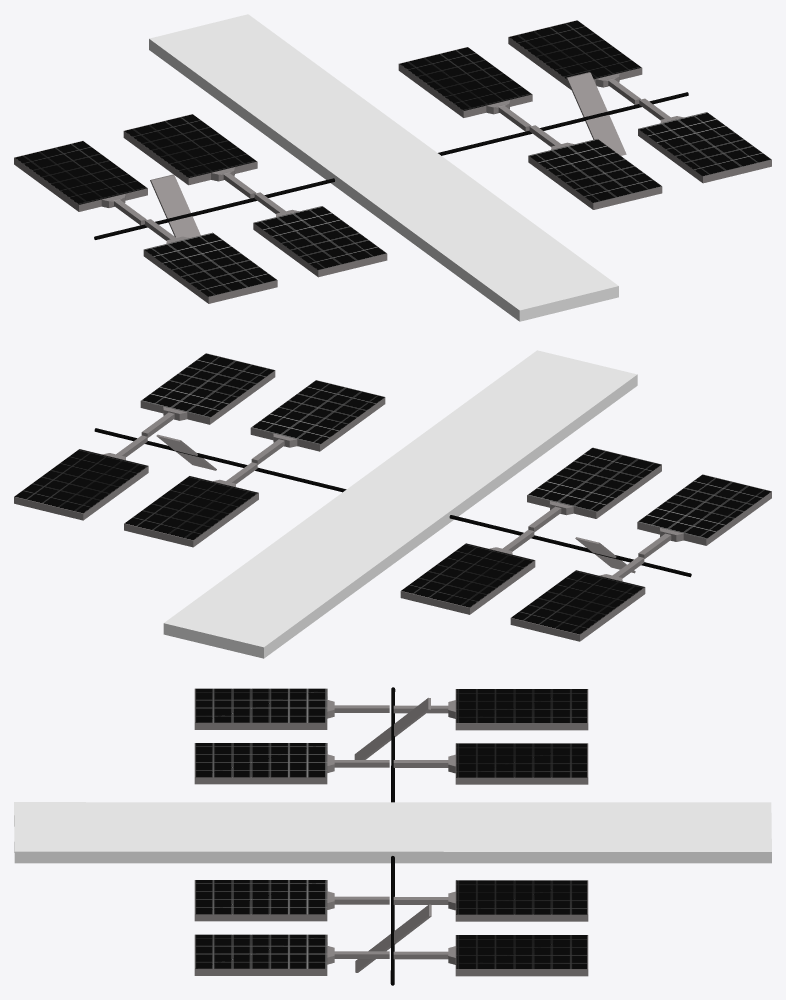
The model's file is ISS-2.fbx.
3 views of the same model, one above another, from view 1: azimuth 30°, elevation 25°; view 2: azimuth 150°, elevation 25°; view 3: azimuth 270°, elevation 25° (orthographic). The views are drawn at different scales.
Parts seen in each view (by area): view 1: pCube2, polySurface28, polySurface26, polySurface24, polySurface21, polySurface27, polySurface23, polySurface25, polySurface22, pCylinder7, pCube4, pCube5; view 2: pCube2, polySurface27, polySurface25, polySurface22, polySurface24, polySurface23, polySurface21, polySurface26, polySurface28, pCylinder7, pCube4, pCube5; view 3: pCube2, polySurface24, polySurface22, polySurface23, polySurface27, polySurface21, polySurface26, polySurface28, polySurface25, pCube5, pCylinder7, pCube4.
Part boxes in pixels (x1,y1,x2,y2): pCube2: (149, 14, 618, 321); polySurface28: (253, 192, 387, 277); polySurface26: (143, 219, 277, 303); polySurface24: (528, 125, 662, 209); polySurface21: (638, 98, 771, 183); polySurface27: (123, 114, 257, 198); polySurface23: (398, 47, 532, 131); polySurface25: (14, 141, 147, 225); polySurface22: (508, 20, 642, 104); pCylinder7: (94, 92, 688, 239); pCube4: (566, 72, 626, 155); pCube5: (150, 174, 200, 237); pCube2: (163, 350, 637, 658); polySurface27: (400, 529, 535, 614); polySurface25: (510, 556, 645, 641); polySurface22: (14, 435, 148, 520); polySurface24: (250, 380, 385, 464); polySurface23: (124, 462, 258, 547); polySurface21: (140, 353, 275, 437); polySurface26: (637, 474, 771, 558); polySurface28: (527, 447, 661, 532); pCylinder7: (94, 428, 691, 577); pCube4: (156, 434, 216, 470); pCube5: (575, 537, 635, 573); pCube2: (14, 802, 771, 863); polySurface24: (194, 880, 389, 921); polySurface22: (393, 935, 588, 976); polySurface23: (393, 880, 588, 921); polySurface27: (393, 743, 588, 784); polySurface21: (194, 934, 389, 975); polySurface26: (194, 688, 389, 729); polySurface28: (194, 743, 389, 784); polySurface25: (393, 689, 588, 730); pCube5: (354, 697, 430, 759); pCylinder7: (390, 687, 395, 985); pCube4: (355, 904, 431, 972).
Bounding box in the file's own units: 360 × 32.77 × 391.
Materials: 1 (1 with a texture image).
